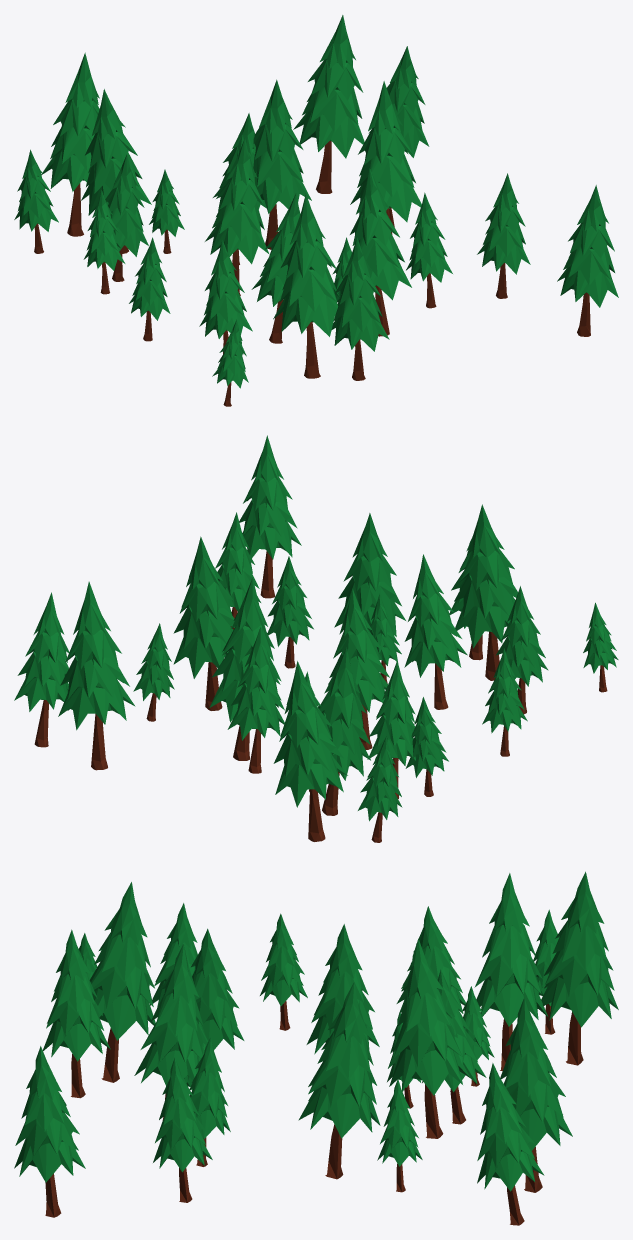
File: wald.fbx
3 views of the same model, one above another, from view 1: azimuth 30°, elevation 25°; view 2: azimuth 150°, elevation 25°; view 3: azimuth 270°, elevation 25° (orthographic). The views are drawn at different scales.
Visible parts, largest first — view 1: wald; view 2: wald; view 3: wald.
Part boxes in pixels (left/top/right/bottom): wald: left=14, top=15, right=618, bottom=406; wald: left=14, top=435, right=618, bottom=842; wald: left=14, top=871, right=618, bottom=1225.
Bounding box in the file's own units: 5224 × 2242 × 6135.
